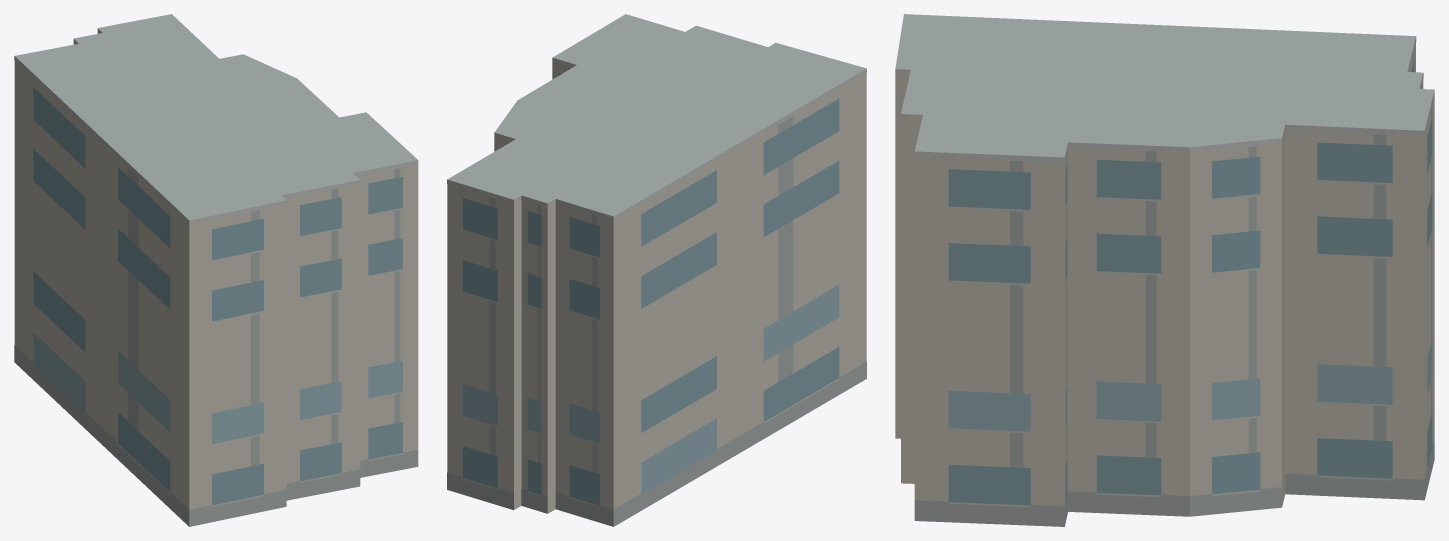
File: survey-upis-32758417.glb
3 renders of one model, left to right at view 1: azimuth 30°, elevation 25°; view 2: azimuth 150°, elevation 25°; view 3: azimuth 270°, elevation 25°, orthographic. The views are drawn at different scales.
Visible parts, largest first — view 1: survey-upis-32758417.tmp; view 2: survey-upis-32758417.tmp; view 3: survey-upis-32758417.tmp.
Part boxes in pixels (bbox=[...]): survey-upis-32758417.tmp: bbox=[14, 14, 418, 526]; survey-upis-32758417.tmp: bbox=[447, 14, 866, 526]; survey-upis-32758417.tmp: bbox=[895, 14, 1434, 526].
Size of the model in its own units: 13.41 by 16.1 by 21.31.
